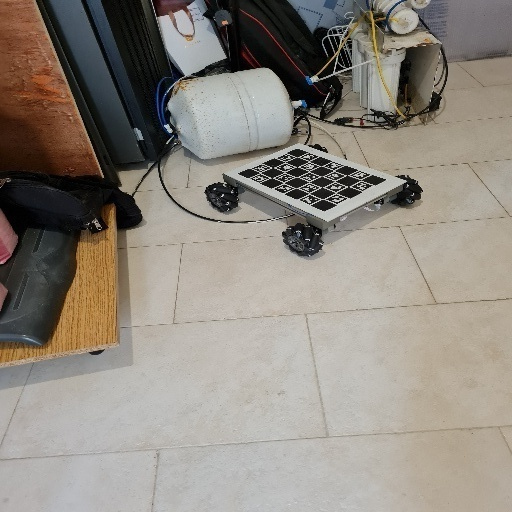Omniwheel: (204, 142, 423, 259)
